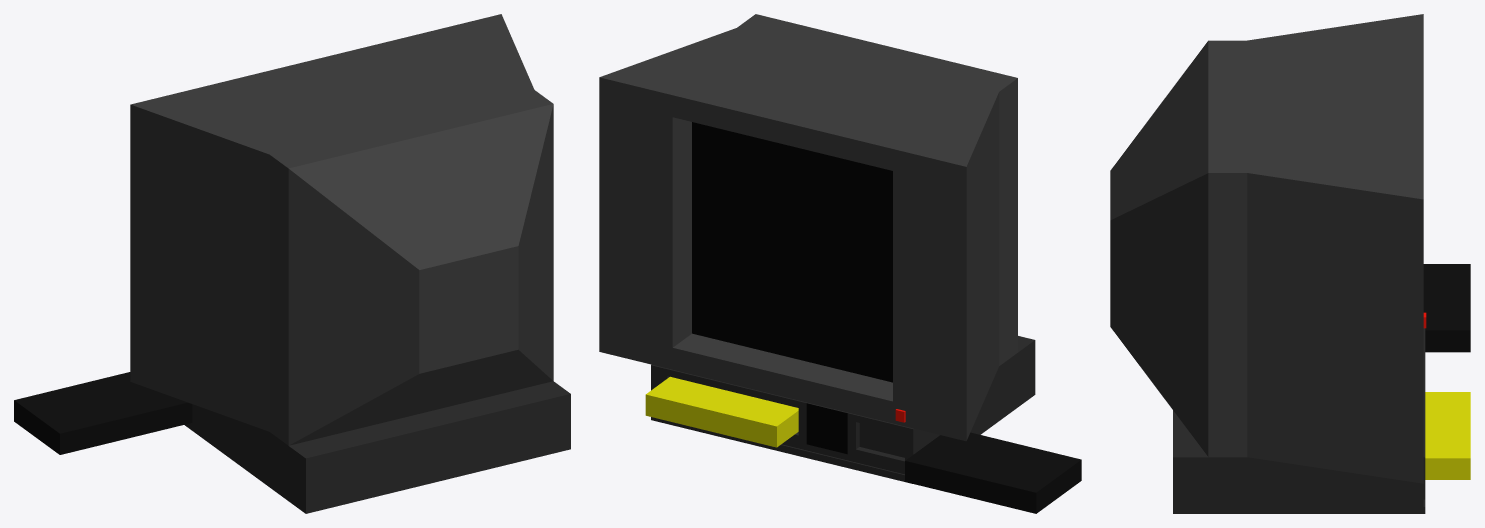
File: vhs-test-01.glb
3 views of the same model, side by side, from view 1: azimuth 30°, elevation 25°; view 2: azimuth 150°, elevation 25°; view 3: azimuth 270°, elevation 25° (orthographic). The views are drawn at different scales.
Parts seen in each view (by area): view 1: monitor, vhsplayer, vhs_1; view 2: monitor, vhsplayer, vhs_1, vhs_enter; view 3: monitor, vhsplayer, vhs_1, vhs_enter.
Boxes of the visible parts, x1,y1,x2,y2 form: monitor: (130, 14, 553, 445); vhsplayer: (184, 381, 570, 513); vhs_1: (14, 372, 192, 454); monitor: (599, 14, 1017, 441); vhsplayer: (651, 336, 1035, 483); vhs_1: (905, 432, 1081, 513); vhs_enter: (645, 376, 798, 447); monitor: (1110, 14, 1423, 483); vhsplayer: (1173, 328, 1425, 513); vhs_1: (1423, 264, 1470, 352); vhs_enter: (1425, 392, 1470, 479).
Bounding box in the file's own units: 3.51 × 2.4 × 2.3.
